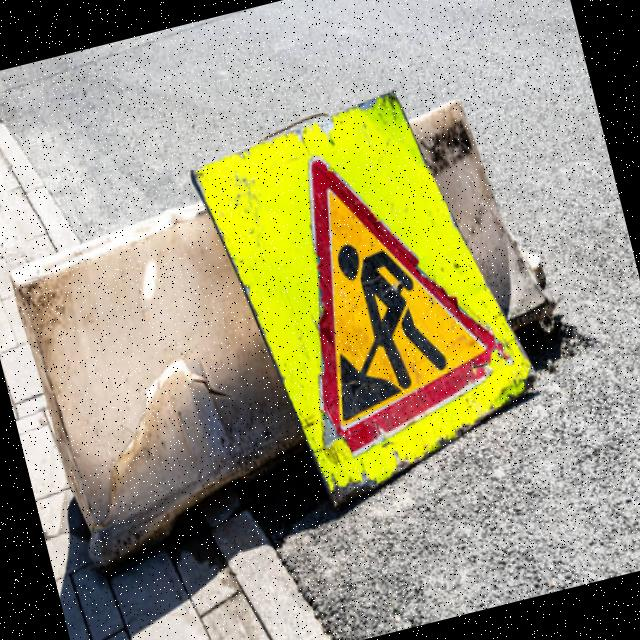road_work: (245, 118, 529, 484)
